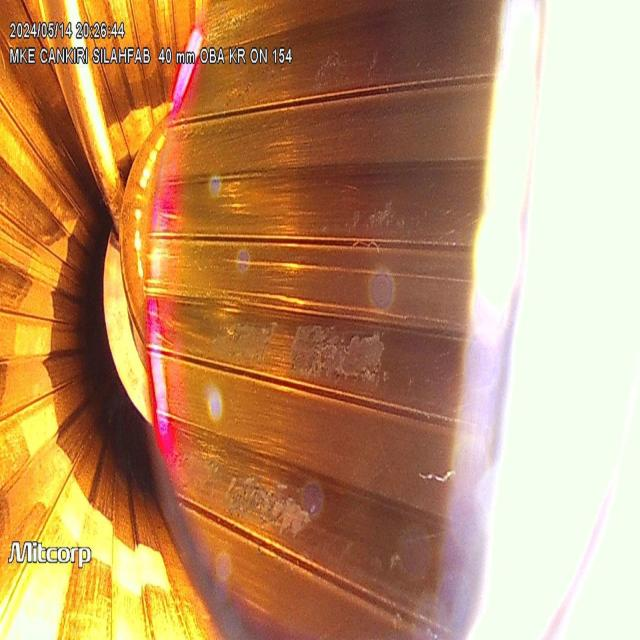hata_9.3: (218, 434, 346, 557), (283, 314, 406, 421), (347, 178, 414, 265)
